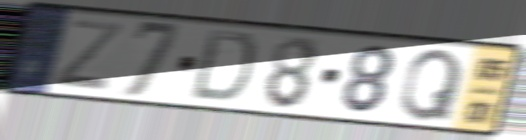7: (127, 17, 180, 102)
8: (263, 35, 320, 111), (340, 43, 397, 115)
D: (187, 27, 259, 106)
Q: (398, 47, 467, 124)
Z: (51, 16, 127, 94)
